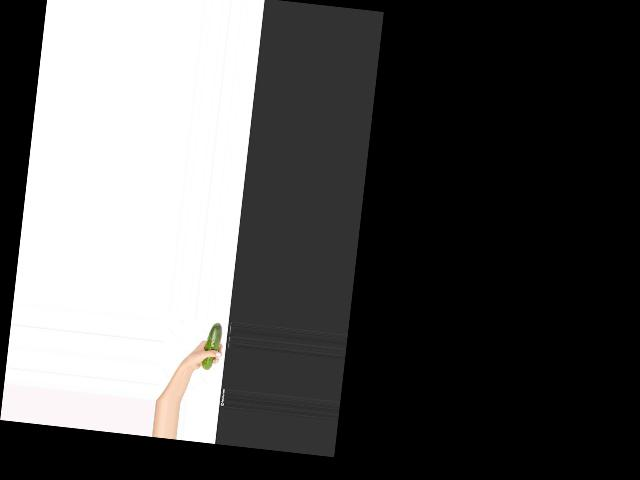cucumber: (201, 321, 223, 370)
